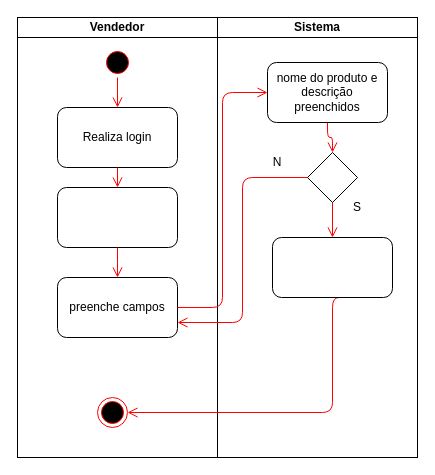
The diagram is 435 pixels wide and 475 high, and some of its shapes have lost their labels. Each missing label, with the centre of its shape:
Acessa a página de cadastrar produtos: (117,217)
Envia Produto: (332,267)
